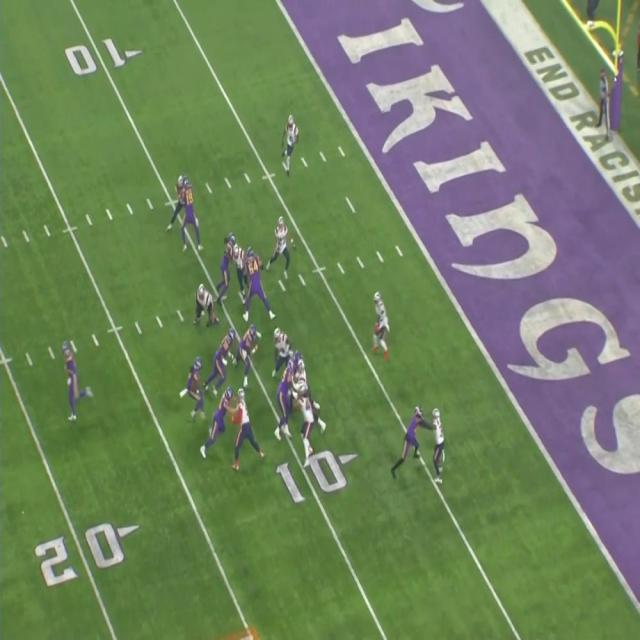db: (374, 289, 390, 356), (431, 406, 445, 481), (274, 215, 290, 274), (284, 112, 296, 172)
lb: (298, 381, 316, 457)
qb: (63, 343, 78, 421)
skill: (178, 177, 201, 251), (184, 356, 206, 415), (402, 405, 424, 463), (217, 233, 233, 299)
